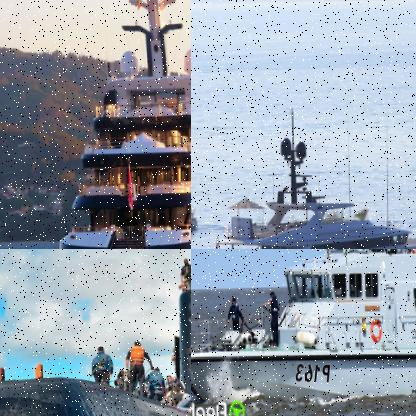Patrol Boat: (191, 249, 415, 408)
Submarine: (0, 249, 190, 415)
Yacht: (44, 0, 190, 248), (191, 102, 415, 248)
